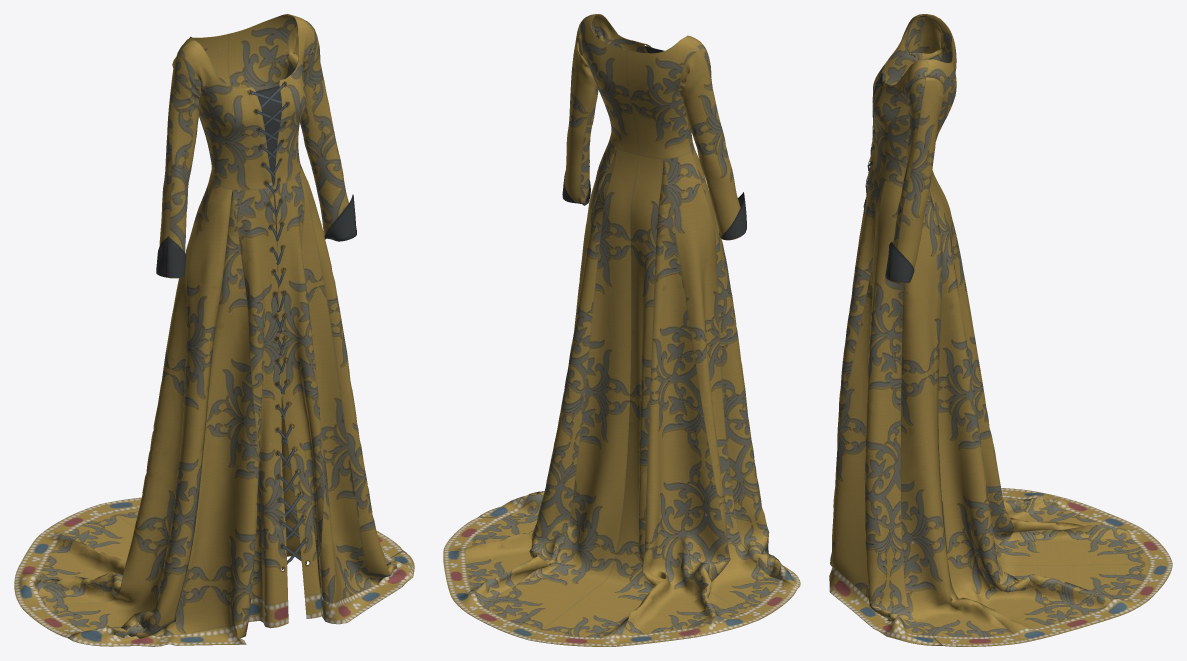
The model's file is gown-golden.glb.
3 views of the same model, side by side, from view 1: azimuth 30°, elevation 25°; view 2: azimuth 150°, elevation 25°; view 3: azimuth 270°, elevation 25° (orthographic). The views are drawn at different scales.
Parts seen in each view (by area): view 1: defaultMaterial (×2); view 2: defaultMaterial (×2); view 3: defaultMaterial (×2).
Part boxes in pixels (<box>): defaultMaterial (×2): <box>14,14,414,646</box>; defaultMaterial (×2): <box>443,14,800,646</box>; defaultMaterial (×2): <box>829,14,1172,646</box>.
Bounding box in the file's own units: 99.44 × 155 × 90.66.
1 material, 1 textured.
